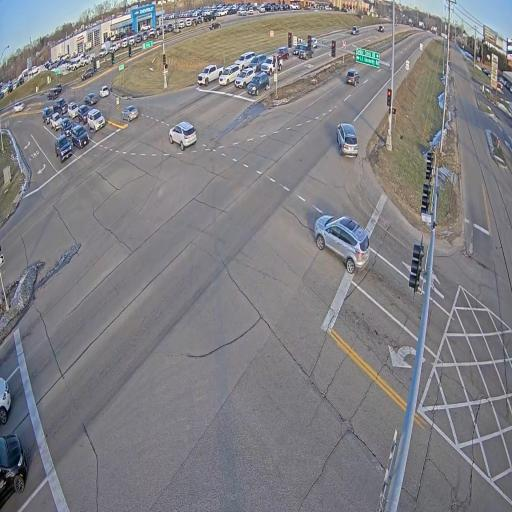pickup: (198, 64, 223, 85), (55, 135, 72, 163), (261, 55, 283, 76), (54, 99, 67, 117), (51, 112, 62, 131)
sedan: (122, 105, 138, 122), (61, 117, 73, 137), (67, 101, 78, 119), (293, 43, 307, 55), (86, 92, 97, 105)
suv: (315, 215, 369, 274), (0, 433, 27, 506), (169, 121, 197, 150), (337, 123, 357, 157), (247, 72, 270, 95), (0, 377, 11, 424), (87, 109, 105, 132), (71, 125, 89, 148), (235, 68, 254, 88), (77, 104, 89, 124), (346, 69, 360, 86), (299, 44, 314, 59), (42, 107, 53, 124), (277, 46, 289, 59), (47, 88, 59, 100), (82, 68, 94, 80), (14, 101, 25, 112), (99, 85, 109, 97), (351, 26, 359, 35), (311, 37, 317, 48), (378, 25, 383, 32)
van: (219, 64, 241, 85), (235, 51, 255, 69), (249, 55, 267, 73)
